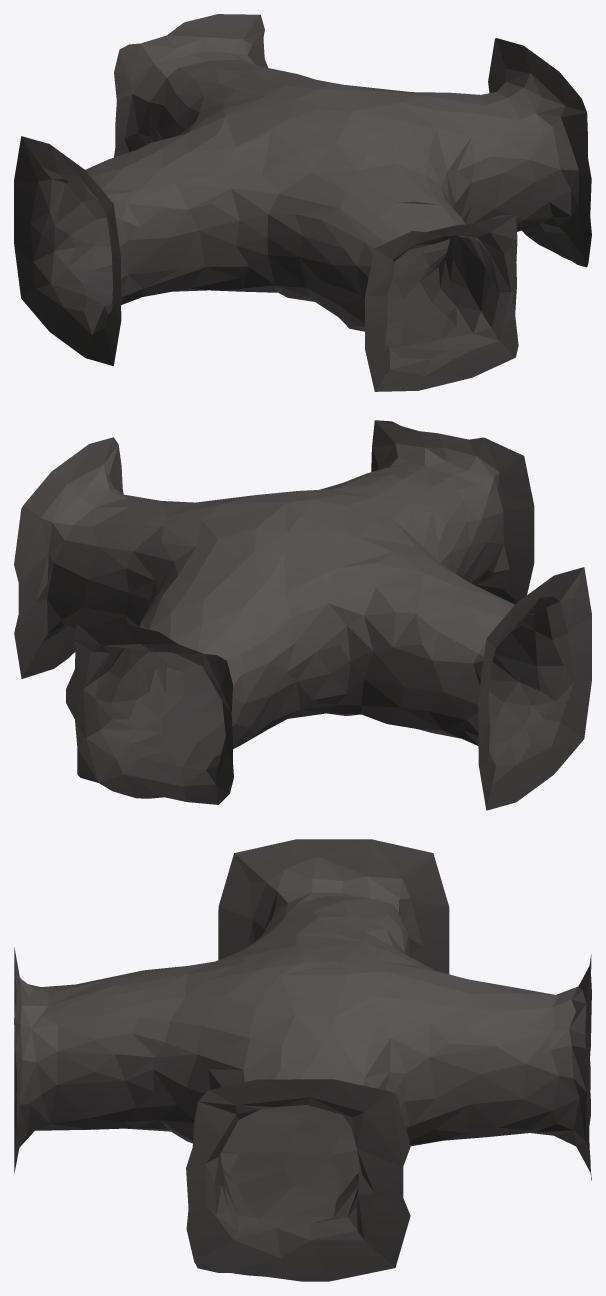
File: ZLP_Cave_B_11.FBX
3 views of the same model, one above another, from view 1: azimuth 30°, elevation 25°; view 2: azimuth 150°, elevation 25°; view 3: azimuth 270°, elevation 25° (orthographic). The views are drawn at different scales.
Parts seen in each view (by area): view 1: ZLP_Cave_B_11; view 2: ZLP_Cave_B_11; view 3: ZLP_Cave_B_11.
Boxes of the visible parts, bbox=[...] form: ZLP_Cave_B_11: bbox=[14, 14, 591, 391]; ZLP_Cave_B_11: bbox=[14, 420, 591, 810]; ZLP_Cave_B_11: bbox=[14, 839, 591, 1281].
Bounding box in the file's own units: 1847 × 730 × 1880.
